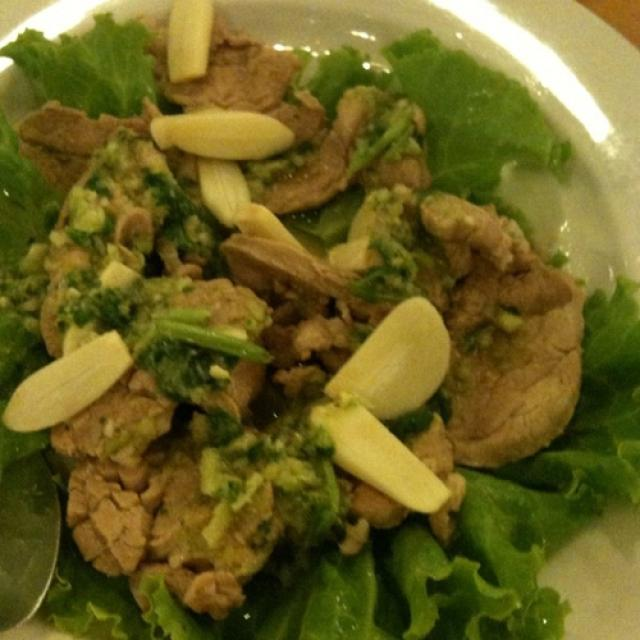猪肉菜式: (15, 15, 613, 621)
